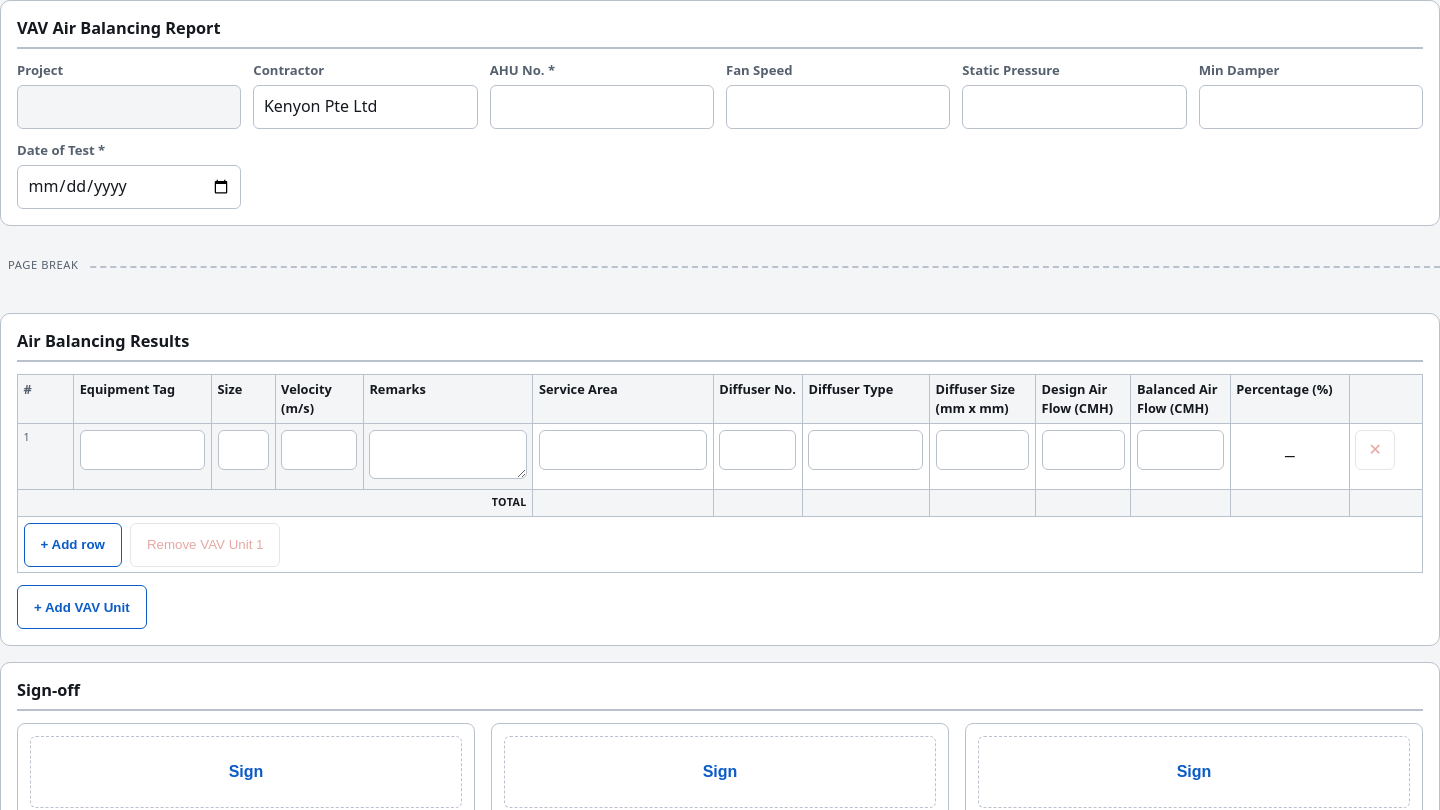
Scenario: VAV Air Balancing template › adds and removes whole VAV units, keeping at least one
Click the button "+ Add VAV Unit" at {"x": 82, "y": 607}, box [17,585,147,629]
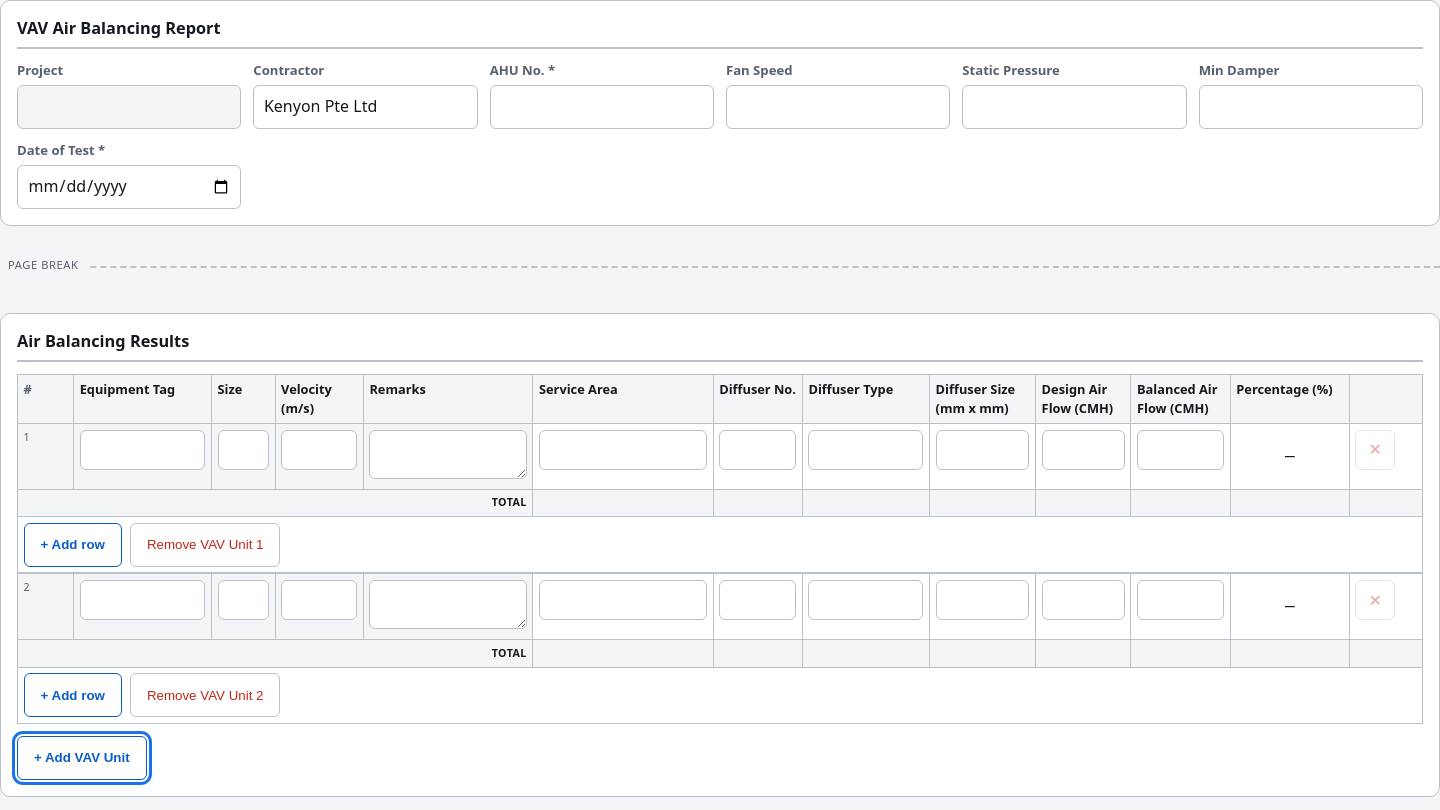
Result: the field named "Equipment Tag VAV Unit 2" is shown at [80,580,205,620]
Click the button "Remove VAV Unit 2" at {"x": 205, "y": 695}, box [130,673,280,717]
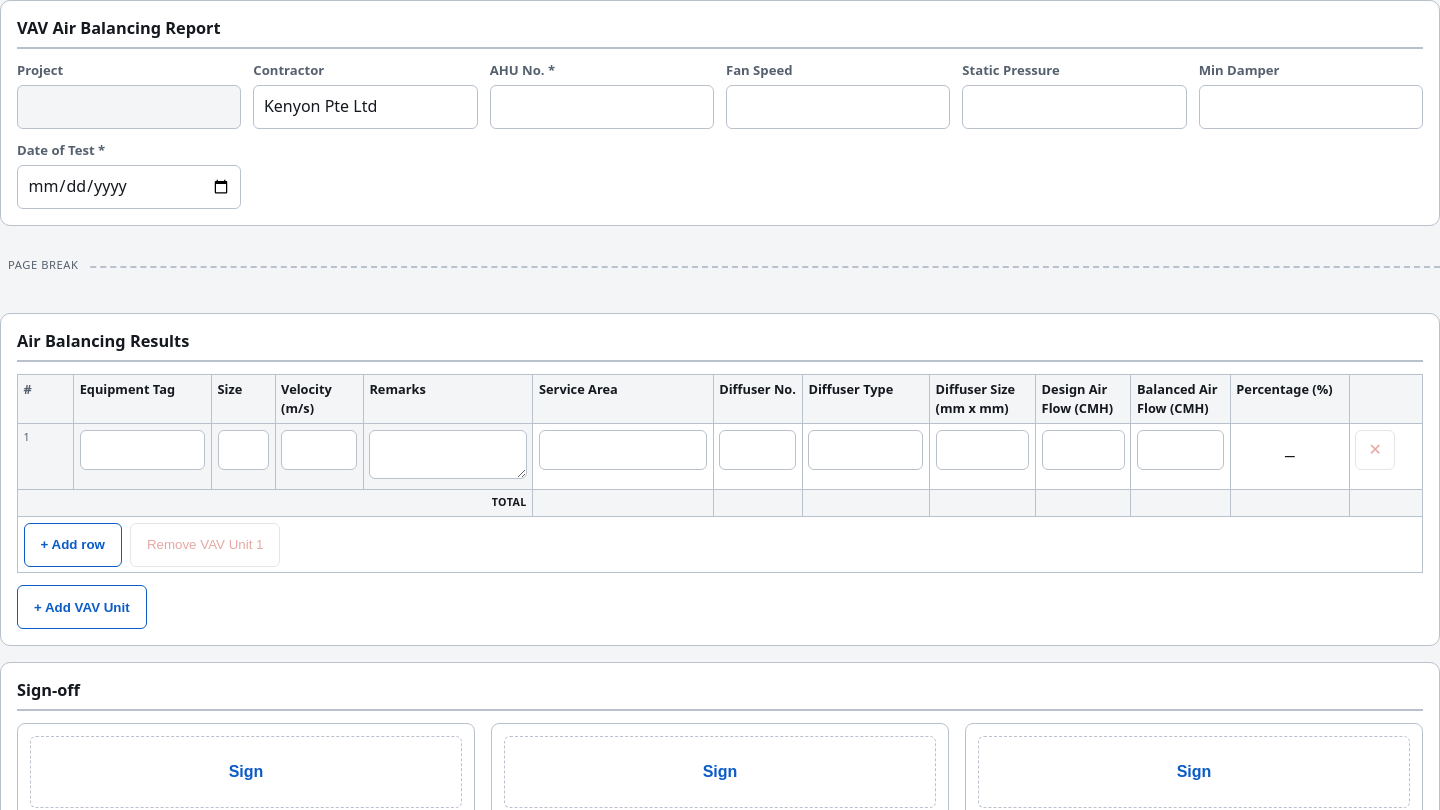
Result: the button "Remove VAV Unit 1" is disabled at [130,523,280,567]
